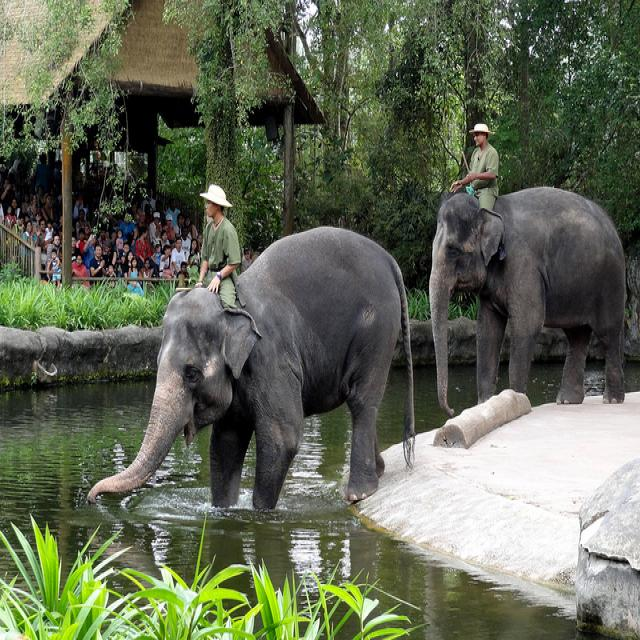Elephant: (86, 224, 416, 511), (428, 184, 626, 416)
person: (194, 183, 241, 308), (450, 122, 499, 210)
